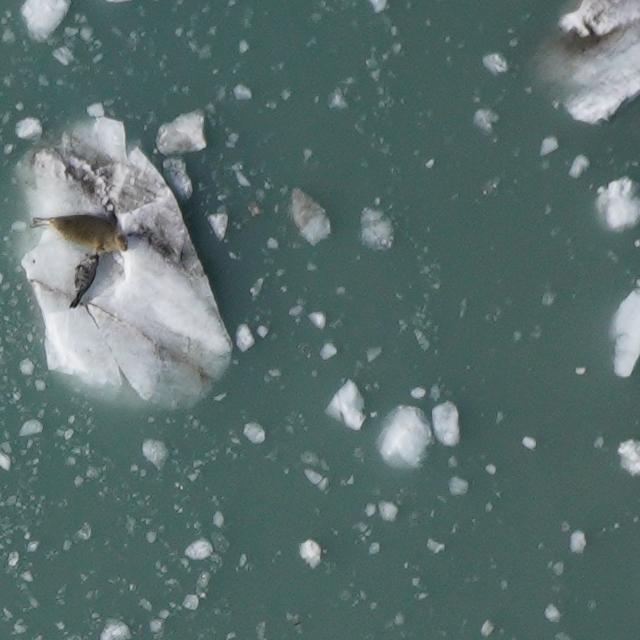seal: (26, 212, 132, 259), (65, 251, 105, 313)
